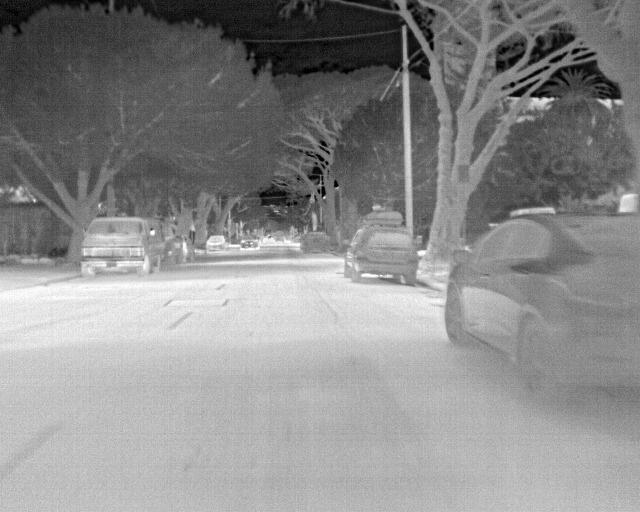car: (443, 212, 639, 403), (81, 215, 165, 278), (344, 223, 418, 287), (163, 222, 180, 262), (300, 230, 330, 252), (179, 237, 195, 263), (205, 234, 227, 251), (240, 235, 259, 250)
